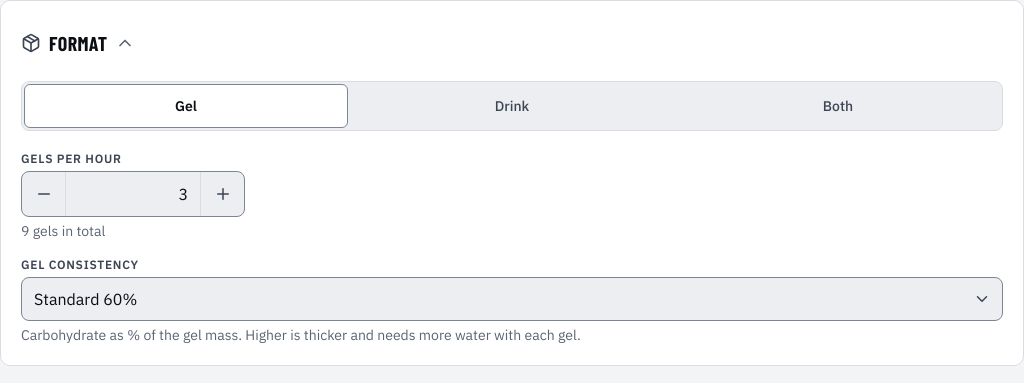
Test: FormatSection: format type › switches to a drink: the gel controls give way to the bottle size
Click the radio button labelled "Drink": (512,106) [350,84,674,128]
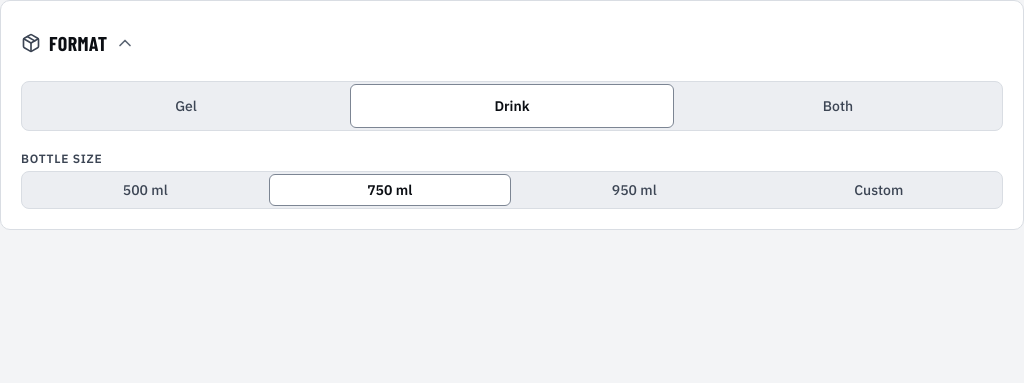
Check: the label "Gels per hour" is gone
Check: the label "Gel consistency" is gone
